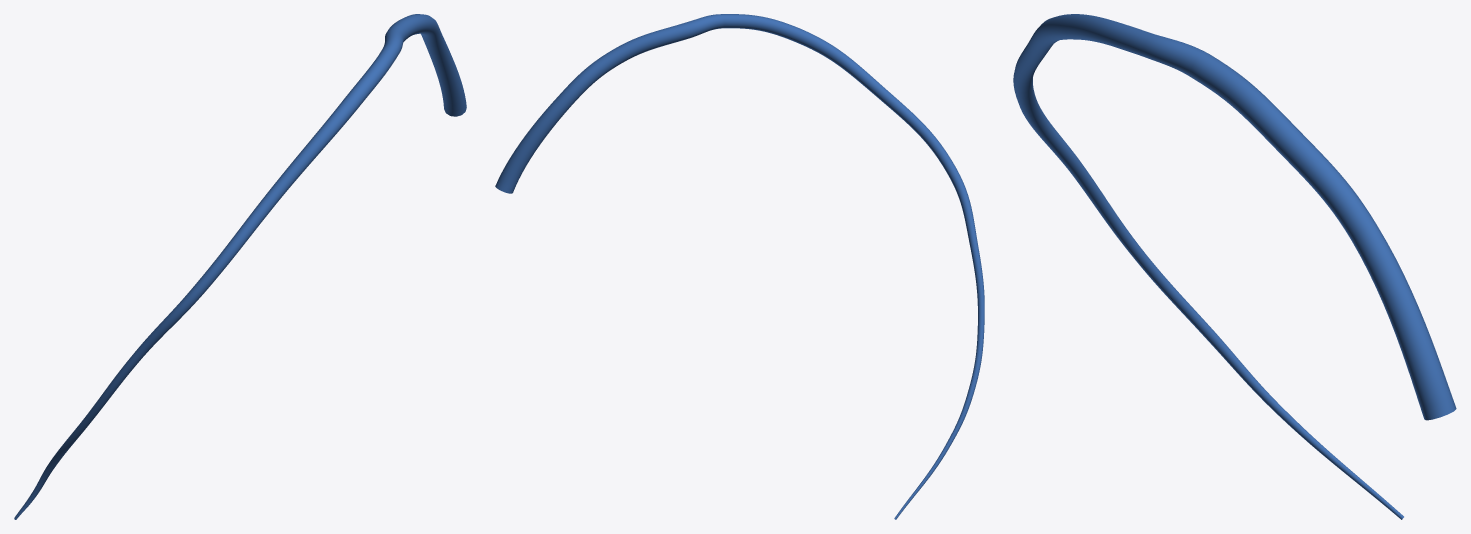
3 views of the same model, side by side, from view 1: azimuth 30°, elevation 25°; view 2: azimuth 150°, elevation 25°; view 3: azimuth 270°, elevation 25° (orthographic). The views are drawn at different scales.
Parts seen in each view (by area): view 1: 右侧髂腰静脉; view 2: 右侧髂腰静脉; view 3: 右侧髂腰静脉.
Part boxes in pixels (left/top/right/bottom): 右侧髂腰静脉: left=14, top=14, right=466, bottom=519; 右侧髂腰静脉: left=495, top=14, right=984, bottom=519; 右侧髂腰静脉: left=1013, top=14, right=1456, bottom=519.
Bounding box in the file's own units: 0.1462 × 0.1332 × 0.0767.
